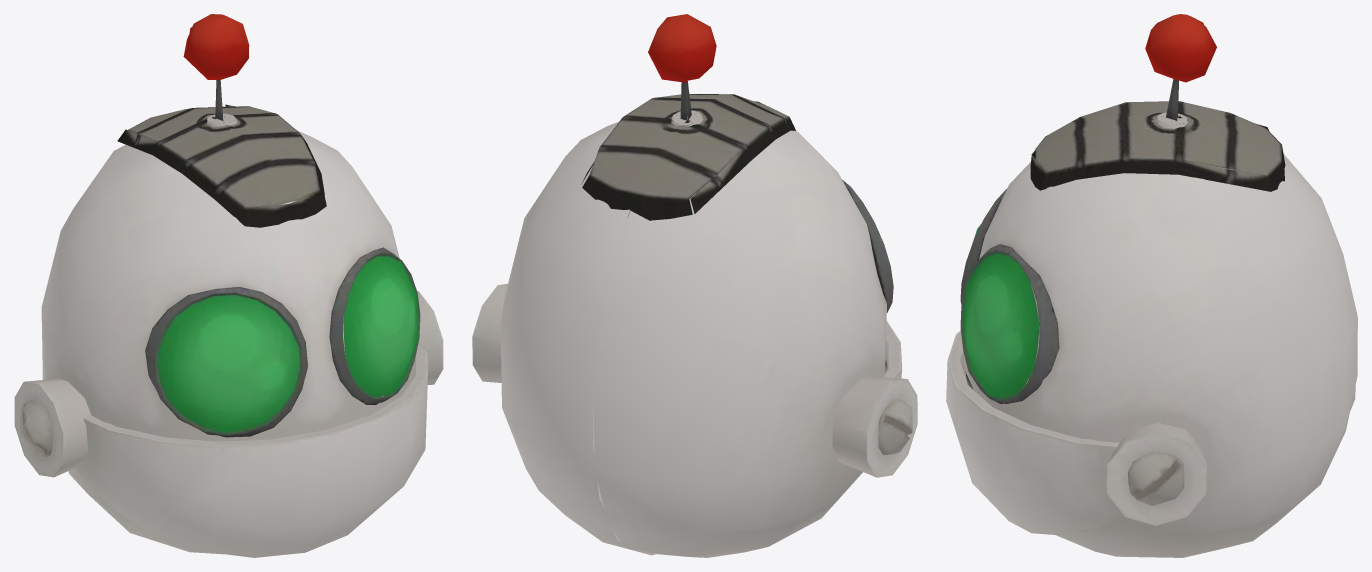
The model's file is clank-transformed.glb.
3 views of the same model, side by side, from view 1: azimuth 30°, elevation 25°; view 2: azimuth 150°, elevation 25°; view 3: azimuth 270°, elevation 25° (orthographic). The views are drawn at different scales.
Visible parts, largest first — view 1: clank; view 2: clank; view 3: clank.
Boxes of the visible parts, x1,y1,x2,y2 form: clank: (14, 14, 443, 557); clank: (472, 14, 917, 557); clank: (946, 14, 1357, 557).
Bounding box in the file's own units: 7.35 × 8.73 × 6.23.
Materials: 1 (1 with a texture image).
